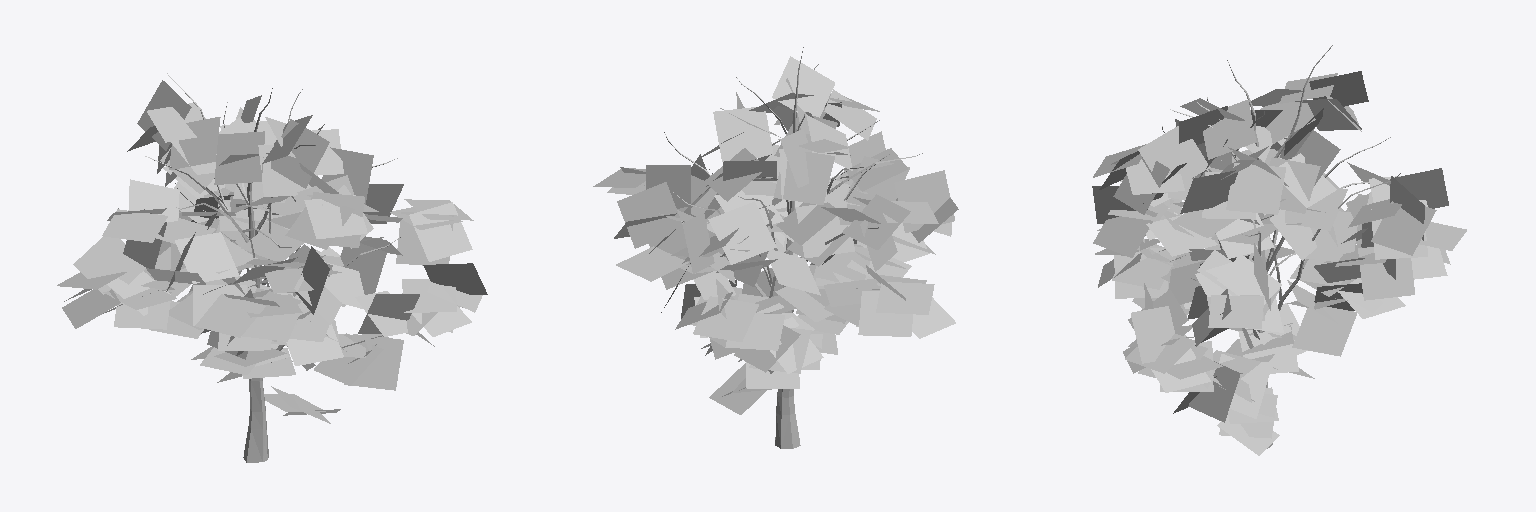
File: tree2a_lod2.obj
3 renders of one model, left to right at view 1: azimuth 30°, elevation 25°; view 2: azimuth 150°, elevation 25°; view 3: azimuth 270°, elevation 25°, orthographic.
Visible parts, largest first — view 1: leaves 0.0 0.[number redacted] 0.0 0 0 0 0.[number redacted] 0.[number redacted], bark 0.[number redacted] -0.[number redacted] 0.[number redacted]; view 2: leaves 0.0 0.[number redacted] 0.0 0 0 0 0.[number redacted] 0.[number redacted], bark 0.[number redacted] -0.[number redacted] 0.[number redacted]; view 3: leaves 0.0 0.[number redacted] 0.0 0 0 0 0.[number redacted] 0.[number redacted], bark 0.[number redacted] -0.[number redacted] 0.[number redacted].
Part boxes in pixels (x1,y1,x2,y2): leaves 0.0 0.[number redacted] 0.0 0 0 0 0.[number redacted] 0.[number redacted]: (57, 80, 487, 423); bark 0.[number redacted] -0.[number redacted] 0.[number redacted]: (118, 73, 400, 462); leaves 0.0 0.[number redacted] 0.0 0 0 0 0.[number redacted] 0.[number redacted]: (593, 56, 958, 414); bark 0.[number redacted] -0.[number redacted] 0.[number redacted]: (664, 47, 922, 448); leaves 0.0 0.[number redacted] 0.0 0 0 0 0.[number redacted] 0.[number redacted]: (1092, 71, 1466, 455); bark 0.[number redacted] -0.[number redacted] 0.[number redacted]: (1162, 45, 1400, 448).
Size of the model in its own units: 1 by 1 by 0.8817.